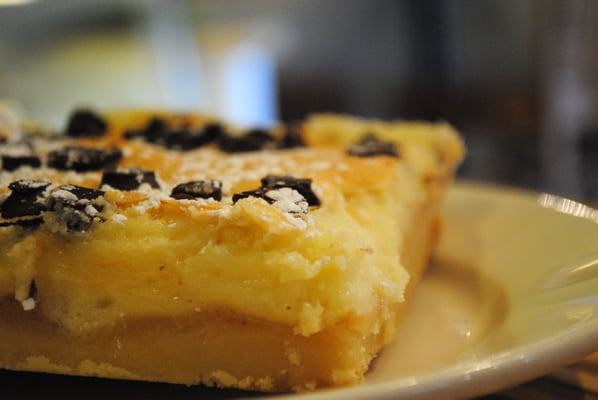salad: (0, 102, 464, 391)
